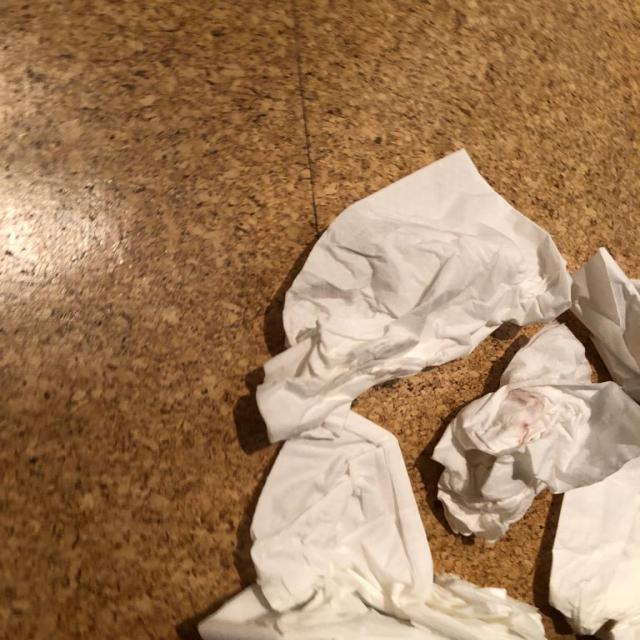kitchen paper: (248, 147, 575, 444), (196, 409, 548, 640), (425, 322, 640, 542), (552, 453, 640, 640), (573, 247, 640, 403)
